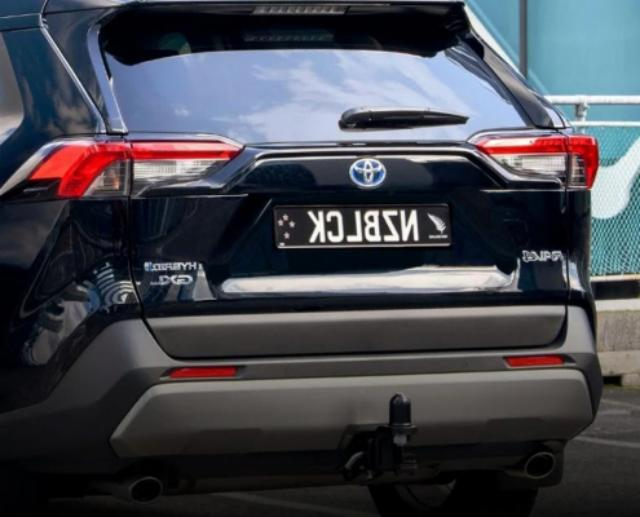Rego: (274, 204, 448, 250)
